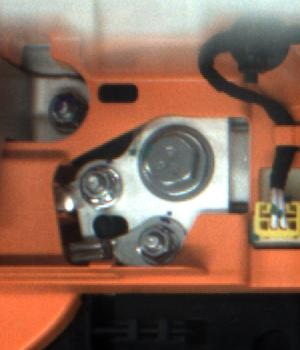nut_b: (137, 119, 226, 207)
